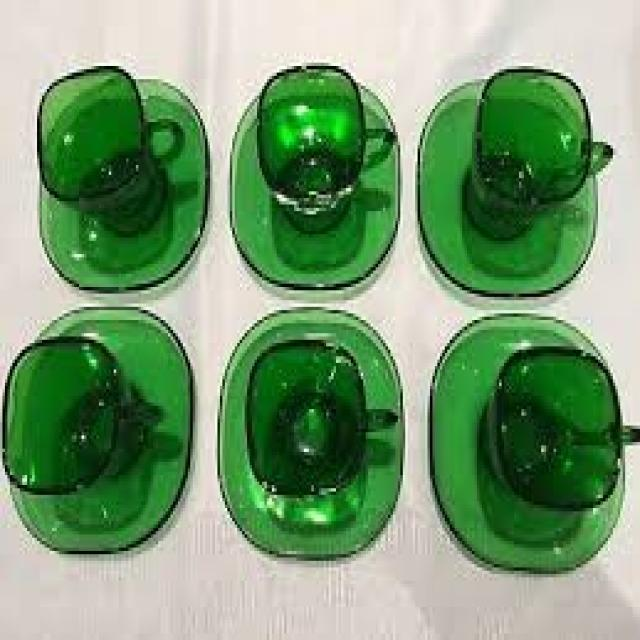glass: (428, 310, 623, 571), (215, 307, 403, 557), (8, 307, 191, 551), (415, 76, 596, 293), (227, 76, 398, 287), (37, 79, 205, 290), (0, 333, 161, 495), (480, 343, 638, 508), (462, 66, 610, 234), (243, 337, 396, 498), (35, 63, 181, 224), (254, 63, 393, 218)
